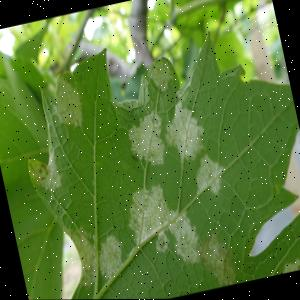Folha: (4, 9, 300, 300)
Fungo: (121, 169, 239, 299), (158, 95, 210, 166), (123, 108, 171, 170), (195, 227, 239, 290), (163, 205, 204, 269), (47, 67, 86, 133), (188, 149, 230, 200), (92, 231, 128, 282), (152, 229, 172, 254), (276, 254, 300, 274), (26, 285, 54, 300)
